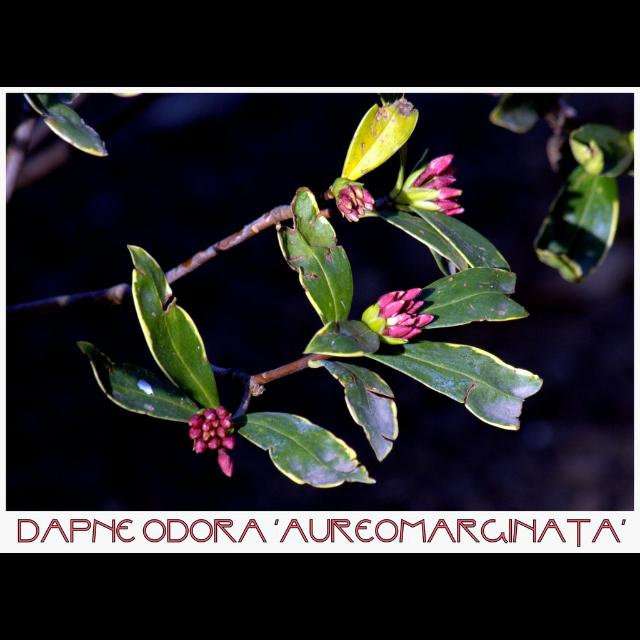Flower: (177, 403, 237, 473), (373, 286, 435, 338), (413, 155, 462, 211), (334, 180, 372, 222)
